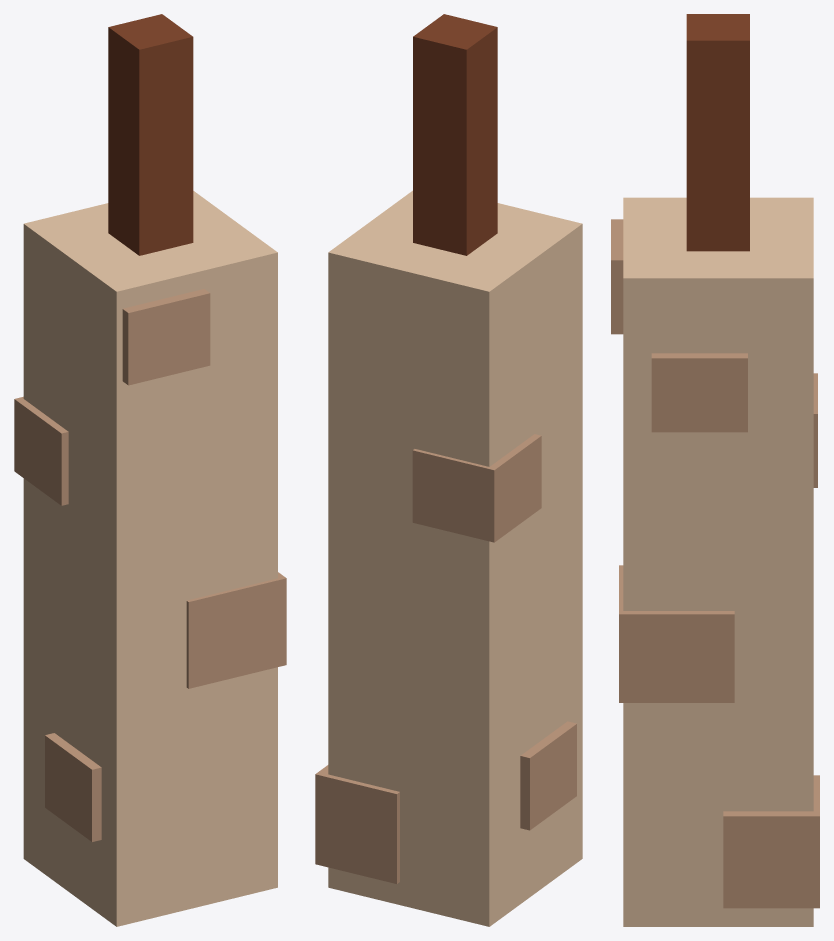
The model's file is village_pack_pole_2.glb.
3 renders of one model, left to right at view 1: azimuth 30°, elevation 25°; view 2: azimuth 150°, elevation 25°; view 3: azimuth 270°, elevation 25°, orthographic. The views are drawn at different scales.
Parts seen in each view (by area): view 1: pole 2_brick 3_0; view 2: pole 2_brick 3_0; view 3: pole 2_brick 3_0.
Part boxes in pixels (x1,y1,x2,y2): pole 2_brick 3_0: (14, 14, 286, 926); pole 2_brick 3_0: (315, 14, 582, 926); pole 2_brick 3_0: (611, 14, 819, 926).
Size of the model in its own units: 0.7712 by 3.43 by 0.7544.
